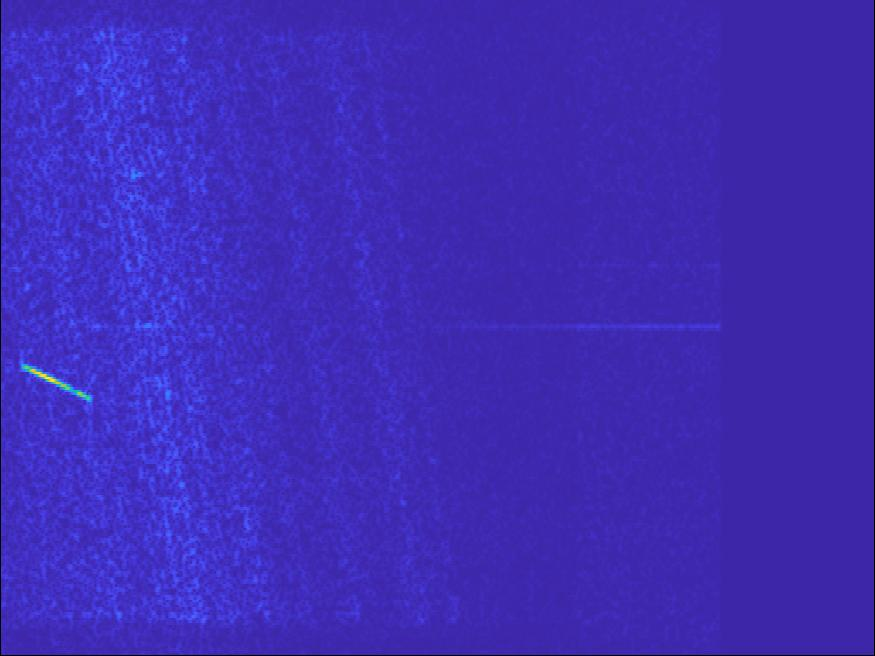Interference: (339, 297, 562, 372)
